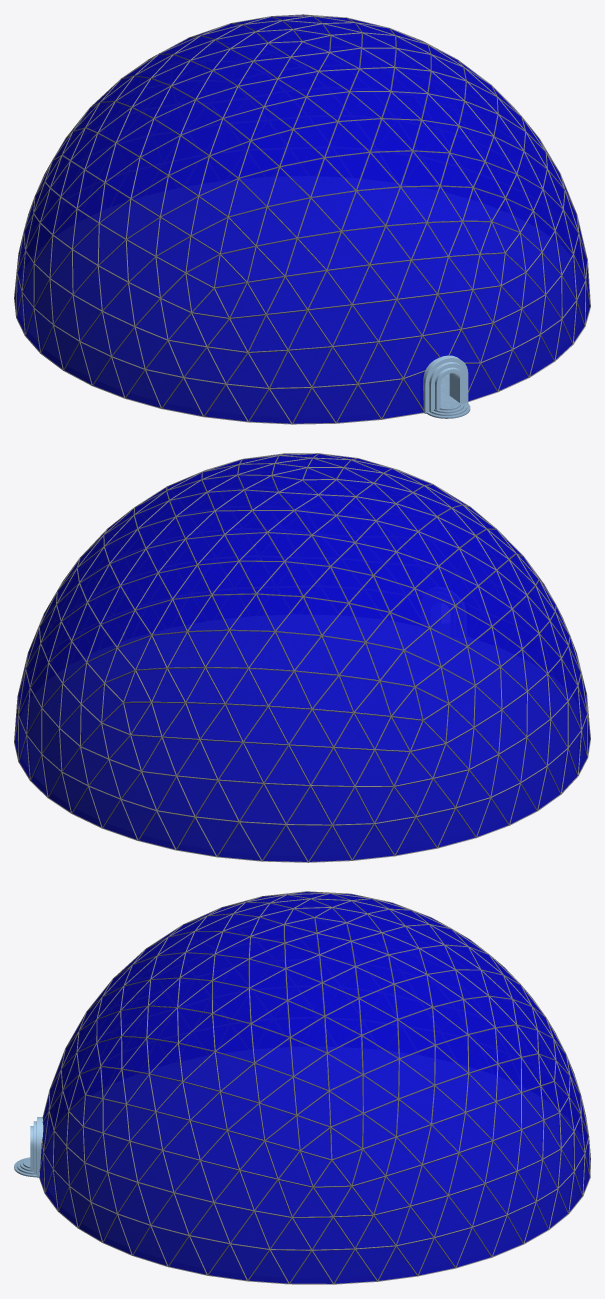
File: Dome.gltf
3 views of the same model, one above another, from view 1: azimuth 30°, elevation 25°; view 2: azimuth 150°, elevation 25°; view 3: azimuth 270°, elevation 25° (orthographic). The views are drawn at different scales.
Parts seen in each view (by area): view 1: Dome_Glass, Dome_Frame, Dome_Door, Dome_Base; view 2: Dome_Glass, Dome_Frame; view 3: Dome_Glass, Dome_Frame, Dome_Door.
Boxes of the visible parts, bbox=[...] form: Dome_Glass: bbox=[14, 15, 589, 423]; Dome_Frame: bbox=[14, 14, 590, 424]; Dome_Door: bbox=[423, 355, 468, 413]; Dome_Base: bbox=[426, 374, 470, 418]; Dome_Glass: bbox=[15, 454, 590, 861]; Dome_Frame: bbox=[14, 453, 590, 862]; Dome_Glass: bbox=[39, 892, 590, 1283]; Dome_Frame: bbox=[39, 891, 590, 1284]; Dome_Door: bbox=[30, 1117, 43, 1177].
Size of the model in its own units: 49.91 by 25.02 by 52.12.
Materials: 4 (3 with a texture image).
